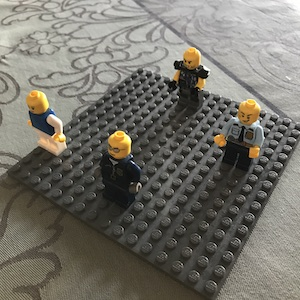Lego: (214, 100, 264, 171), (101, 130, 143, 208), (26, 90, 71, 156), (172, 48, 207, 112)
